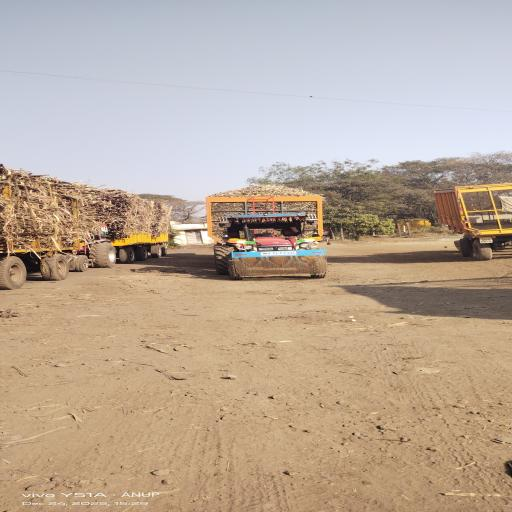number_plate: (241, 250, 317, 262)
